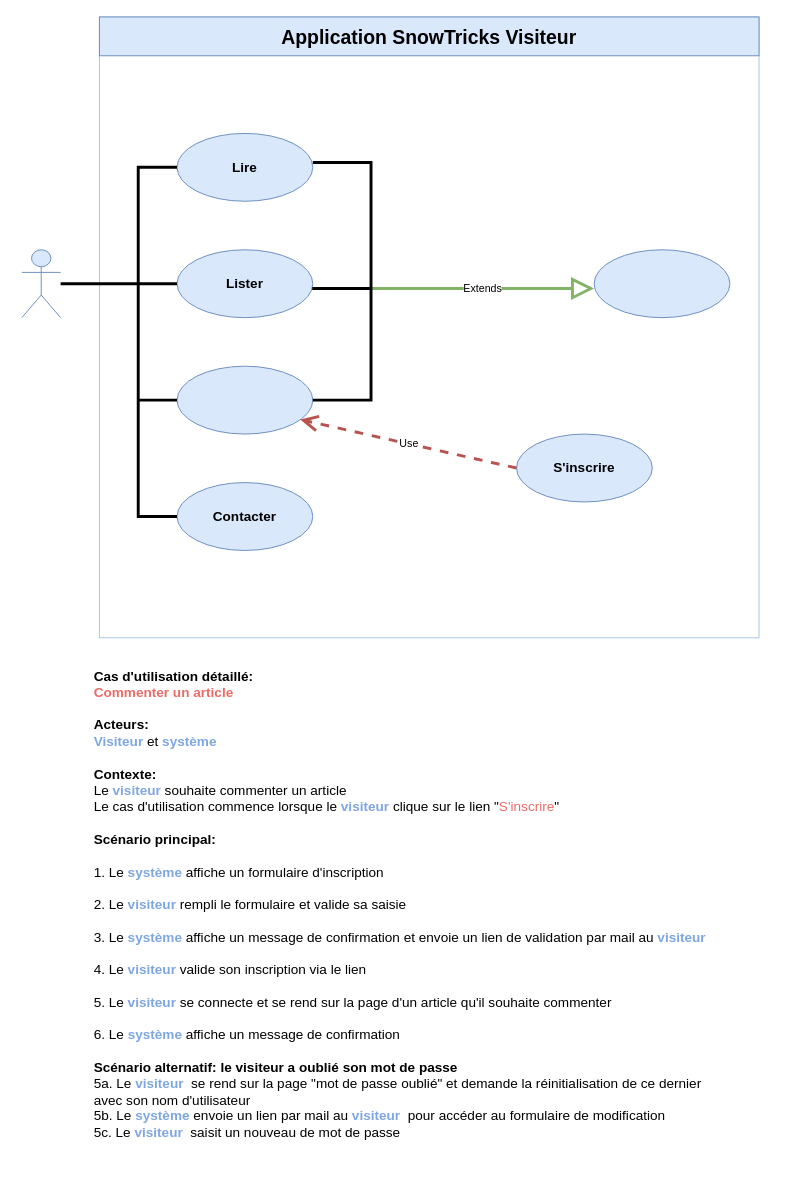
The diagram is 795 pixels wide and 1179 high, and some of its shapes have lost their labels. Here are the shapes that lost their labels. From the top down, the box of each, then its label:
(21, 249, 61, 318): Visiteur
(593, 249, 730, 318): Article
(176, 365, 313, 434): Commenter
